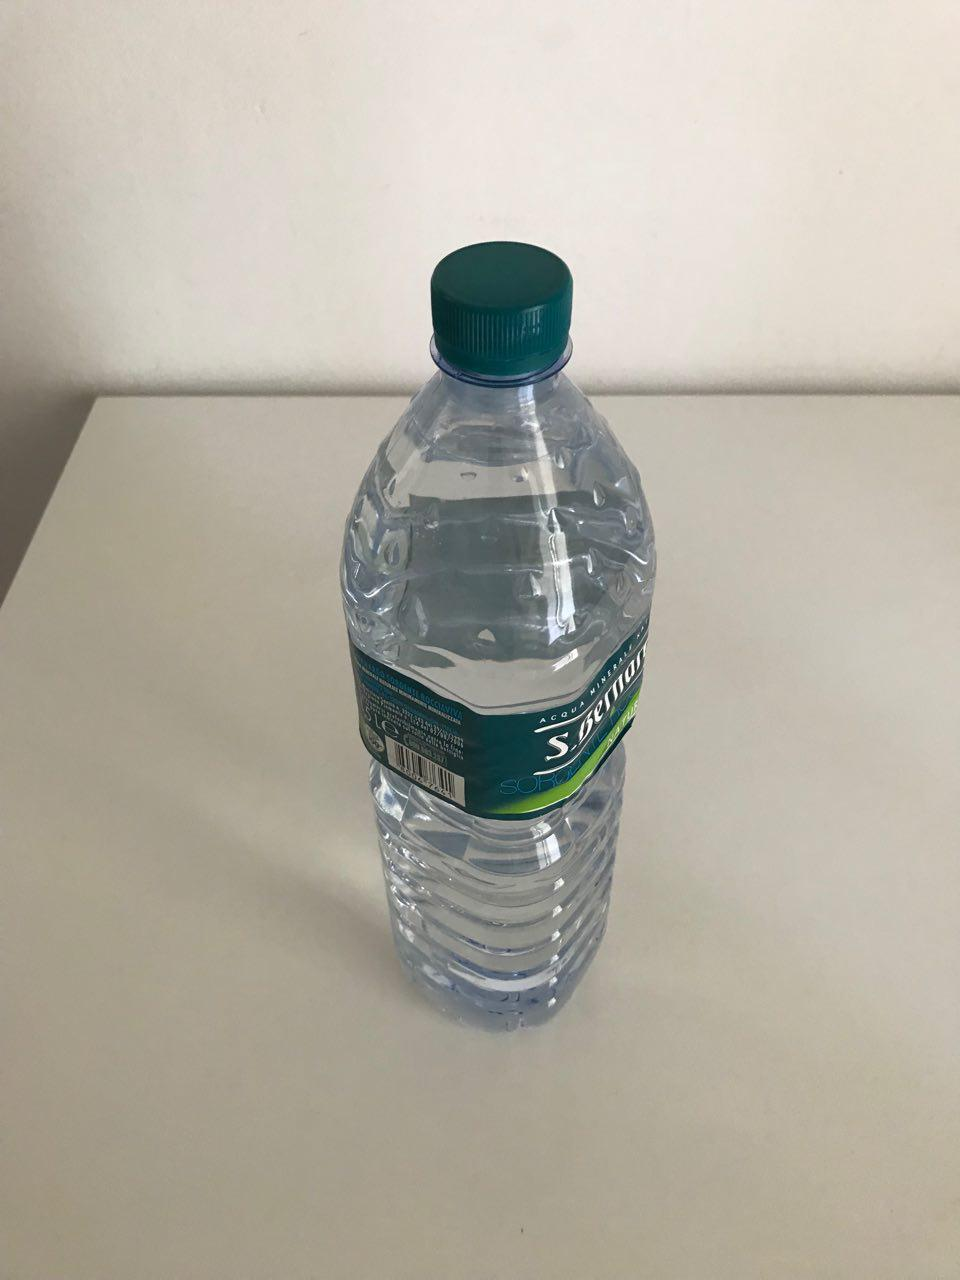san_bernardo: (337, 238, 659, 1036)
